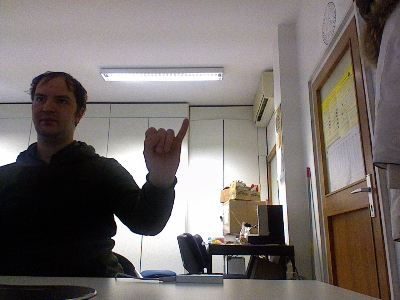小指: (142, 117, 189, 180)
